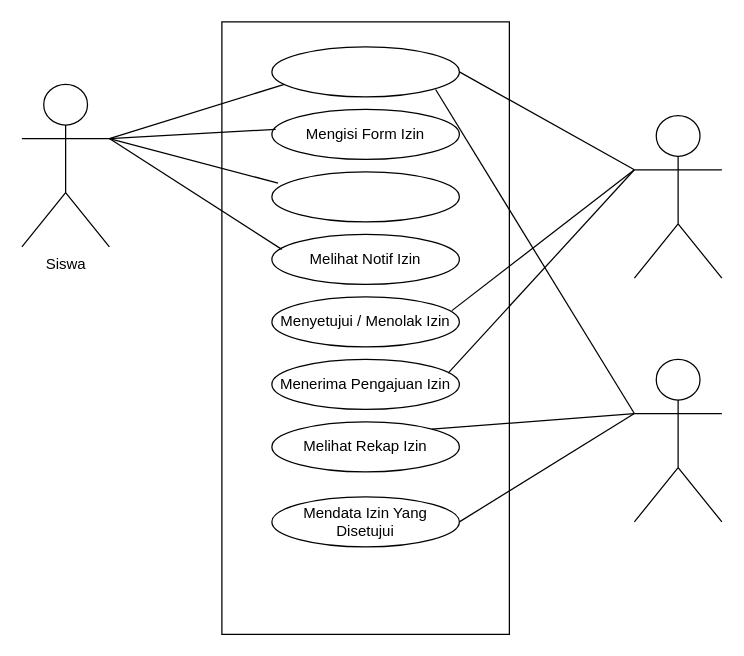
Image size: 744x656. Some labels were removed from this diagram. Each missing label, with the centre of its shape:
"Guru" goes at (x=677, y=196).
"Login" goes at (x=365, y=71).
"Mengirim Pengajuan Izin" goes at (x=365, y=196).
"Sekertaris" goes at (x=677, y=440).
